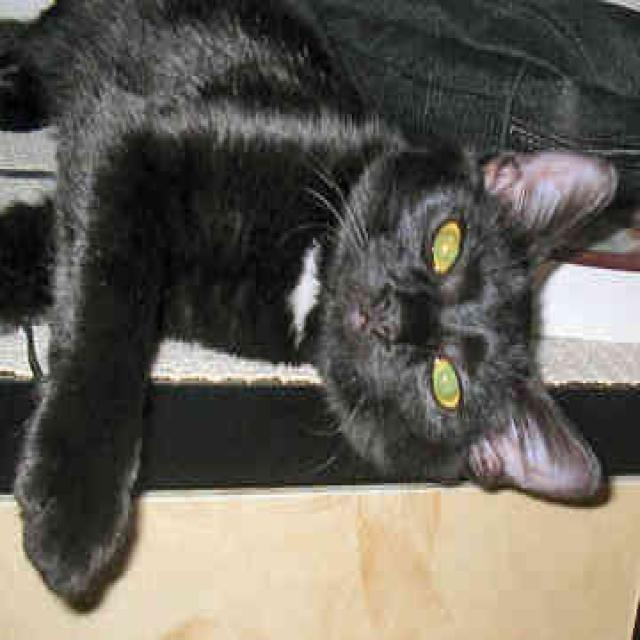Bombay: (320, 145, 617, 502)
